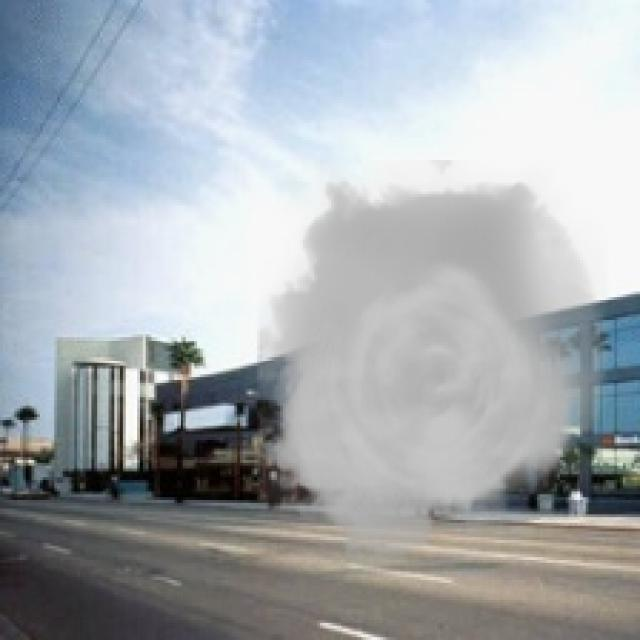smoke: (257, 160, 609, 577)
